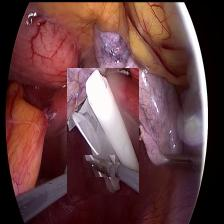Grasper: (82, 154, 114, 176)
Specimen Bag: (66, 67, 138, 194)
